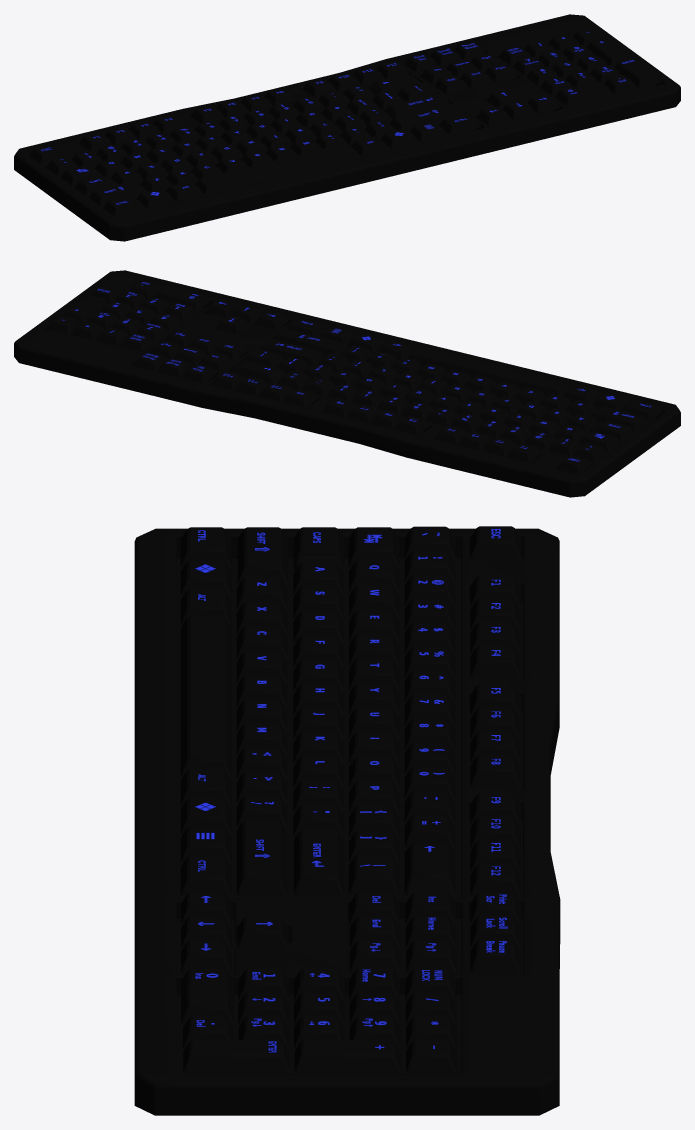
The model's file is keyboard5.glb.
The picture shows the model from 3 angles, top to bottom: view 1: azimuth 30°, elevation 25°; view 2: azimuth 150°, elevation 25°; view 3: azimuth 270°, elevation 25°; orthographic projection. The views are drawn at different scales.
Parts seen in each view (by area): view 1: Keyboard_Keys, Keyboard_Body; view 2: Keyboard_Keys, Keyboard_Body; view 3: Keyboard_Keys, Keyboard_Body.
Part boxes in pixels (left/top/right/bottom): Keyboard_Keys: left=29, top=28, right=661, bottom=216; Keyboard_Body: left=14, top=14, right=680, bottom=241; Keyboard_Keys: left=47, top=274, right=662, bottom=474; Keyboard_Body: left=14, top=270, right=680, bottom=497; Keyboard_Keys: left=180, top=526, right=520, bottom=1072; Keyboard_Body: left=134, top=528, right=560, bottom=1115.
Bounding box in the file's own units: 2.26 × 0.0885 × 0.7303.
3 materials, 1 textured.
